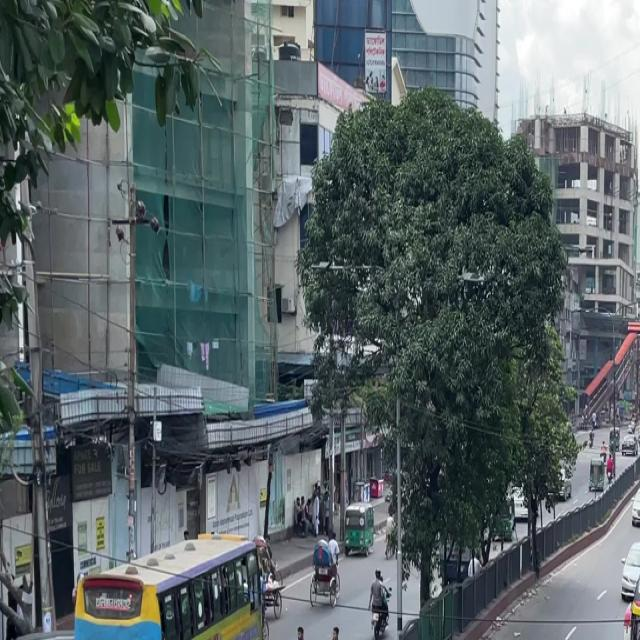bus: (77, 528, 270, 640), (621, 520, 640, 640)
car: (629, 479, 640, 532)
motorbike: (370, 584, 392, 640)
rickshaw: (342, 499, 378, 558)
